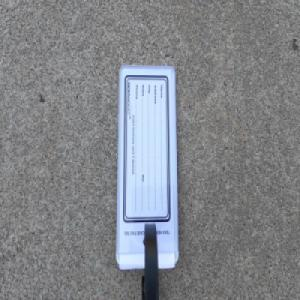LuggageTag: (114, 63, 180, 300)
